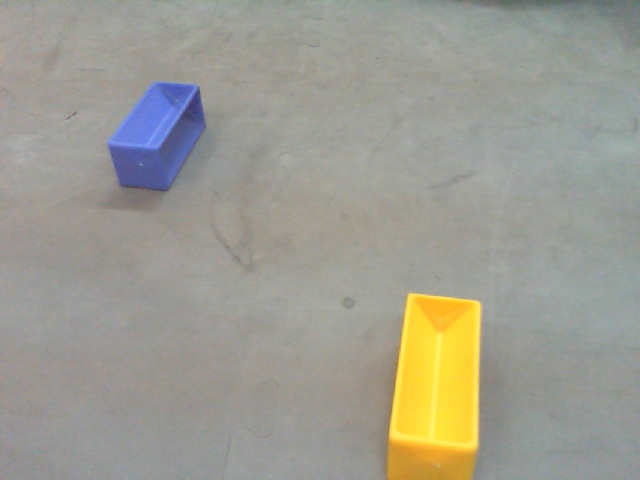BlueSample: (106, 80, 208, 196)
YellowSample: (386, 293, 485, 479)
